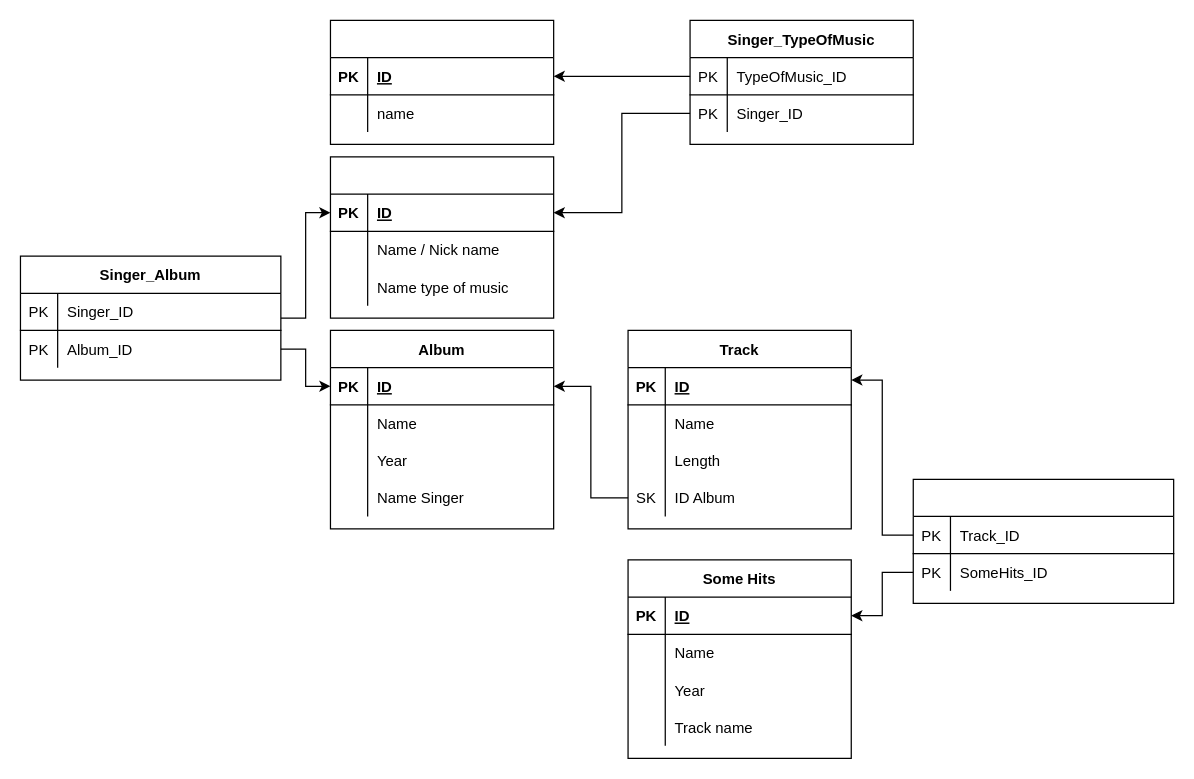
Image size: 1194x779. Some labels were removed from this diagram. The shapes that lost their labels are listed below. From the top down, each one's box as (x1, y1, x2, y2) in pixels, then its label:
(329, 19, 554, 144): Type of music
(329, 156, 554, 318): Singer
(912, 478, 1174, 603): Track_SomeHits
